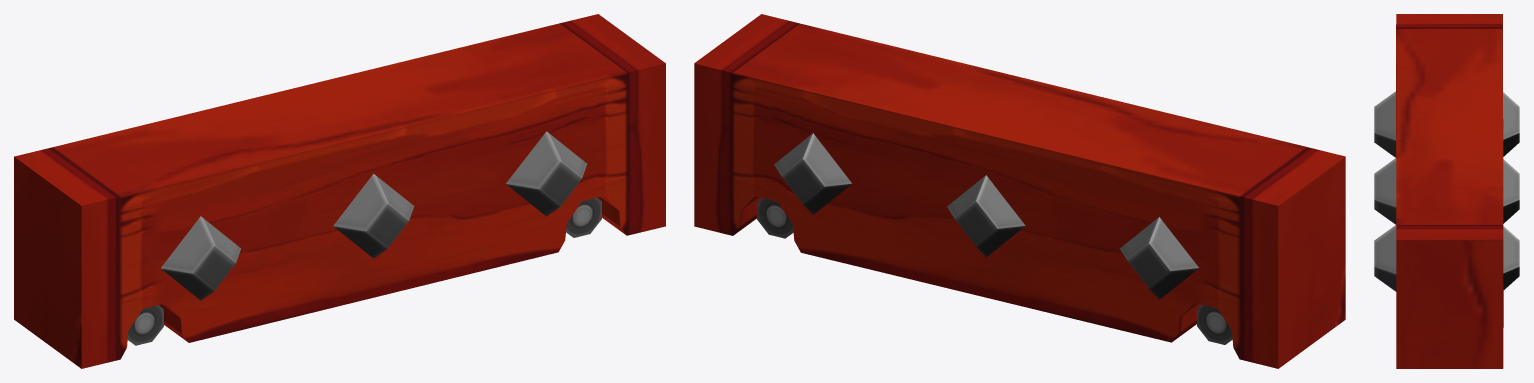
File: dynamic_fence_rad_02.fbx
3 renders of one model, left to right at view 1: azimuth 30°, elevation 25°; view 2: azimuth 150°, elevation 25°; view 3: azimuth 270°, elevation 25°, orthographic. The views are drawn at different scales.
Visible parts, largest first — view 1: dynamic_fence_rad_02; view 2: dynamic_fence_rad_02; view 3: dynamic_fence_rad_02.
Boxes of the visible parts, bbox=[...] form: dynamic_fence_rad_02: bbox=[14, 14, 665, 368]; dynamic_fence_rad_02: bbox=[694, 14, 1345, 368]; dynamic_fence_rad_02: bbox=[1374, 14, 1519, 368].
Bounding box in the file's own units: 150 × 40 × 40.76.
